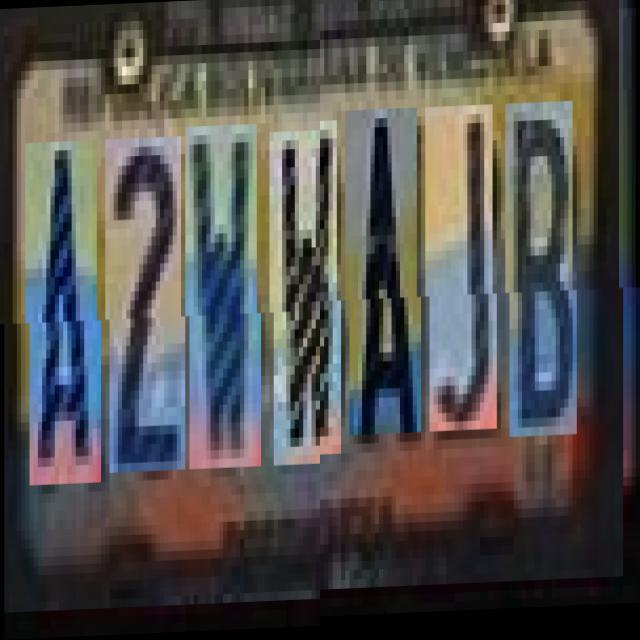2: (110, 138, 186, 474)
A: (29, 140, 102, 486), (349, 120, 422, 448)
B: (509, 115, 577, 451)
J: (429, 118, 497, 445)
W: (190, 126, 262, 471), (274, 132, 342, 468)
